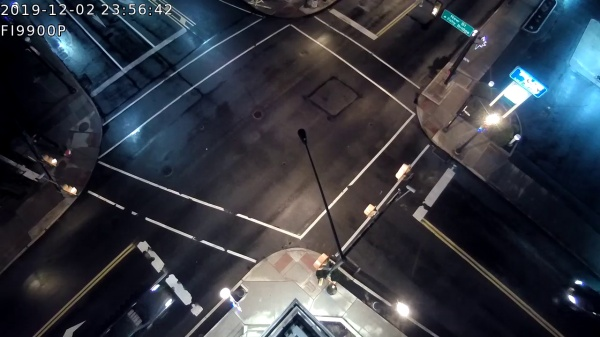car: (106, 272, 174, 337), (558, 275, 600, 325)
